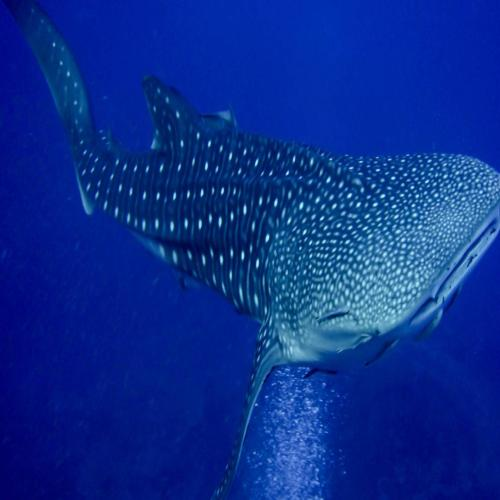shark-endangered: (10, 9, 493, 463)
